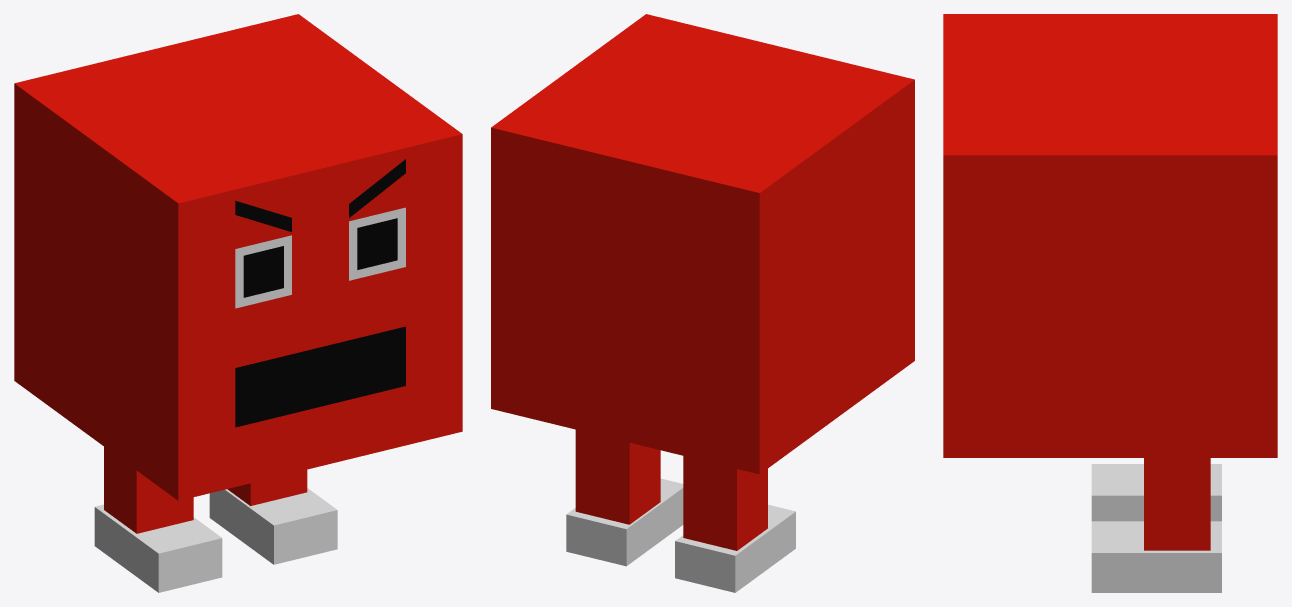
File: enemy.fbx
3 views of the same model, side by side, from view 1: azimuth 30°, elevation 25°; view 2: azimuth 150°, elevation 25°; view 3: azimuth 270°, elevation 25° (orthographic). The views are drawn at different scales.
Parts seen in each view (by area): view 1: Cube.008; view 2: Cube.008; view 3: Cube.008.
Part boxes in pixels (x1,y1,x2,y2): Cube.008: (14, 14, 462, 592); Cube.008: (491, 14, 914, 592); Cube.008: (943, 14, 1277, 592).
Bounding box in the file's own units: 161 × 247 × 161.
